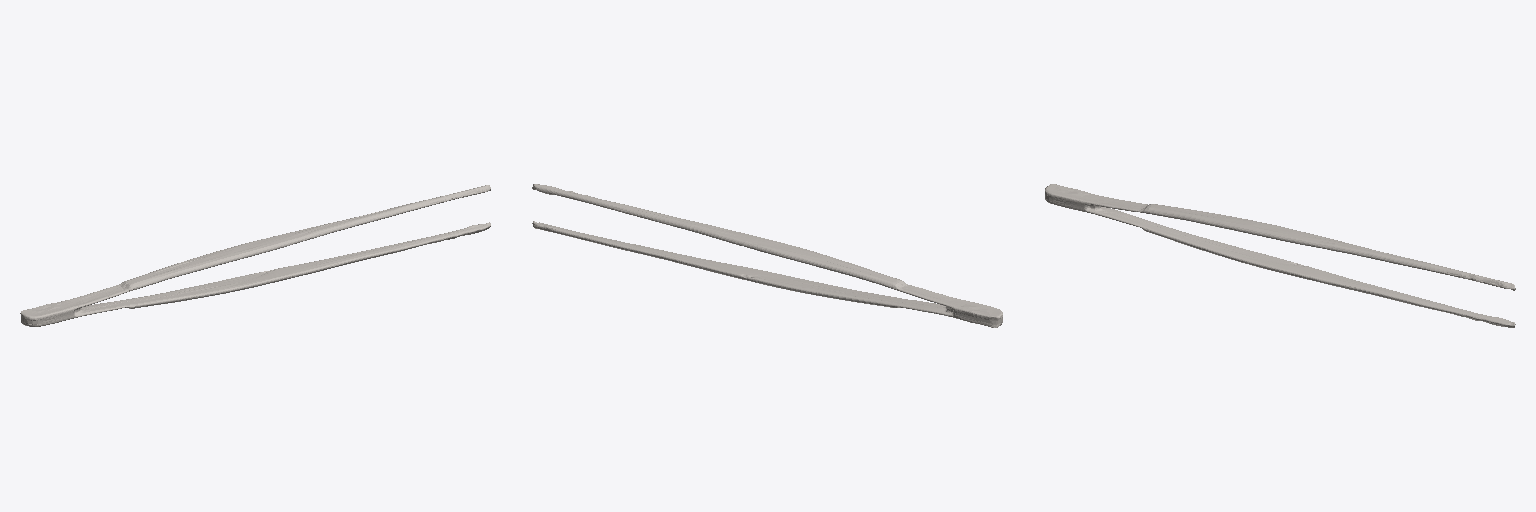
The robot description file, URDF, robot "Tooling_19":
<?xml version="1.0" encoding="utf-8"?>
<!-- This URDF was automatically created by SolidWorks to URDF Exporter! Originally created by Stephen Brawner (brawner@gmail.com)
     Commit Version: 1.6.0-4-g7f85cfe  Build Version: 1.6.7995.38578
     For more information, please see http://wiki.ros.org/sw_urdf_exporter -->
<robot
  name="Tooling_19">
  <link
    name="base_link">
    <inertial>
      <origin
        xyz="-4.4728E-05 2.4886E-06 -4.8575E-05"
        rpy="0 0 0" />
      <mass
        value="0.079222" />
      <inertia
        ixx="4.9929E-06"
        ixy="-1.9123E-08"
        ixz="1.0816E-07"
        iyy="0.0003501"
        iyz="2.6359E-10"
        izz="0.0003541" />
    </inertial>
    <visual>
      <origin
        xyz="0 0 0"
        rpy="0 0 0" />
      <geometry>
        <mesh
          filename="../meshes/base_link.STL" />
      </geometry>
      <material
        name="">
        <color
          rgba="0.77647 0.75686 0.73725 1" />
      </material>
    </visual>
    <collision>
      <origin
        xyz="0 0 0"
        rpy="0 0 0" />
      <geometry>
        <mesh
          filename="../meshes/base_link.STL" />
      </geometry>
    </collision>
  </link>
</robot>

--- What the picture shows (computed from the rendered views, not written in the file) ---
The picture shows the robot from 3 angles, left to right: view 1: azimuth 30°, elevation 25°; view 2: azimuth 150°, elevation 25°; view 3: azimuth 330°, elevation 25°; orthographic projection.
Model Tooling_19 with 1 links and 0 joints (none), rooted at base_link, posed every joint at zero.
Visible links, largest first — view 1: base_link; view 2: base_link; view 3: base_link.
Link boxes in pixels (bbox=[...]): base_link: bbox=[20, 185, 490, 326]; base_link: bbox=[532, 184, 1002, 327]; base_link: bbox=[1045, 184, 1515, 327].
Bounding box of the posed robot: 0.2555 × 0.0114 × 0.0235 m (x, y, z).
1 mesh visuals loaded from 1 distinct referenced files (1 binary STL).
